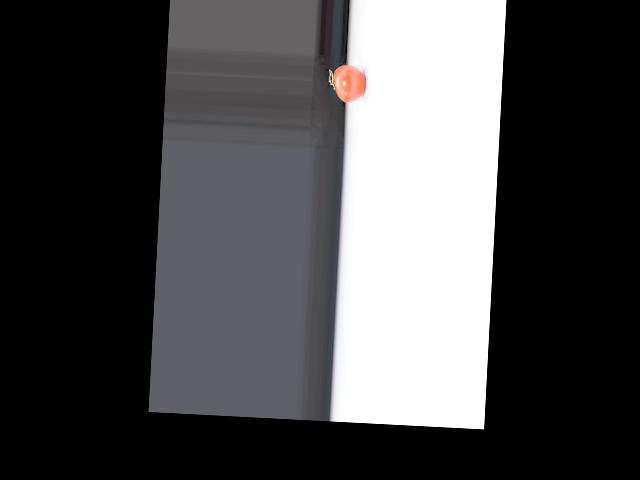tomato: (332, 64, 366, 103)
